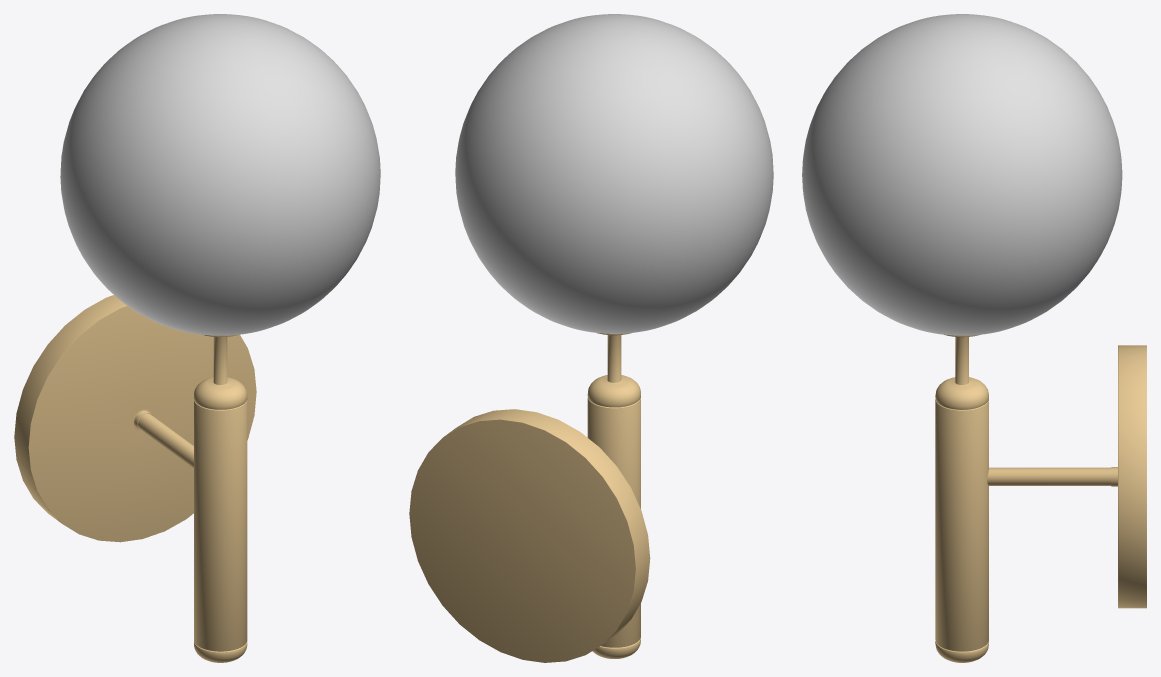
File: Lamp.fbx
The picture shows the model from 3 angles, left to right: view 1: azimuth 30°, elevation 25°; view 2: azimuth 150°, elevation 25°; view 3: azimuth 270°, elevation 25°; orthographic projection.
Parts seen in each view (by area): view 1: Sphere.002, Circle.016, Circle.017; view 2: Sphere.002, Circle.016, Circle.017; view 3: Sphere.002, Circle.017, Circle.016.
Boxes of the visible parts, box(x1,y1,x2,y2) form: Sphere.002: box(60, 14, 380, 335); Circle.016: box(14, 295, 256, 542); Circle.017: box(194, 334, 247, 662); Sphere.002: box(455, 14, 773, 333); Circle.016: box(409, 409, 650, 662); Circle.017: box(587, 333, 640, 658); Sphere.002: box(802, 14, 1122, 335); Circle.017: box(935, 334, 988, 662); Circle.016: box(987, 345, 1146, 608).
Size of the model in its own units: 15.08 by 32.65 by 16.23.
